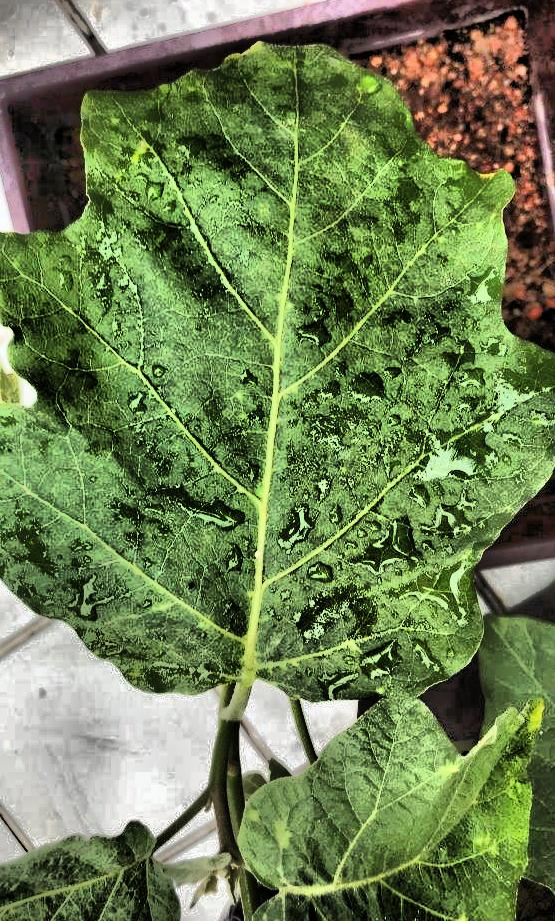HEALTHY: (48, 0, 555, 671)
